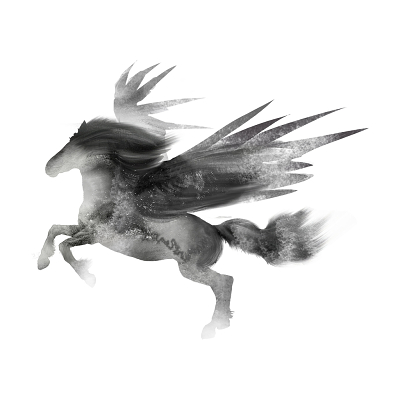background: (25, 78, 344, 340)
